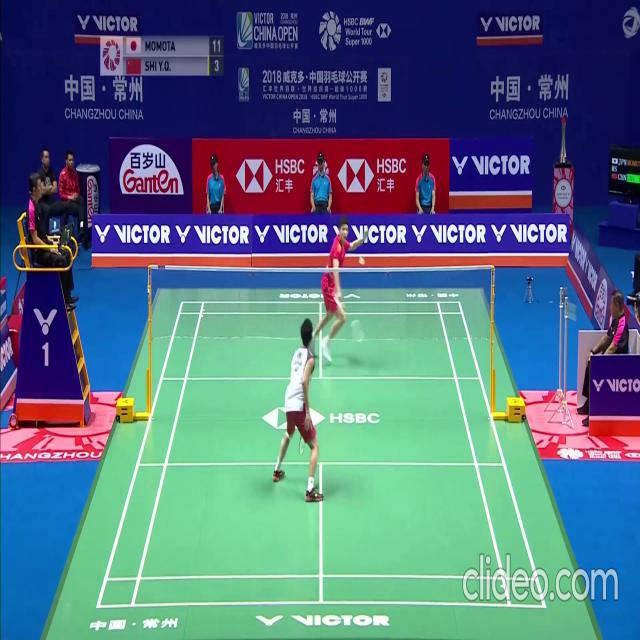Shuttlecock: (359, 256, 364, 263)
